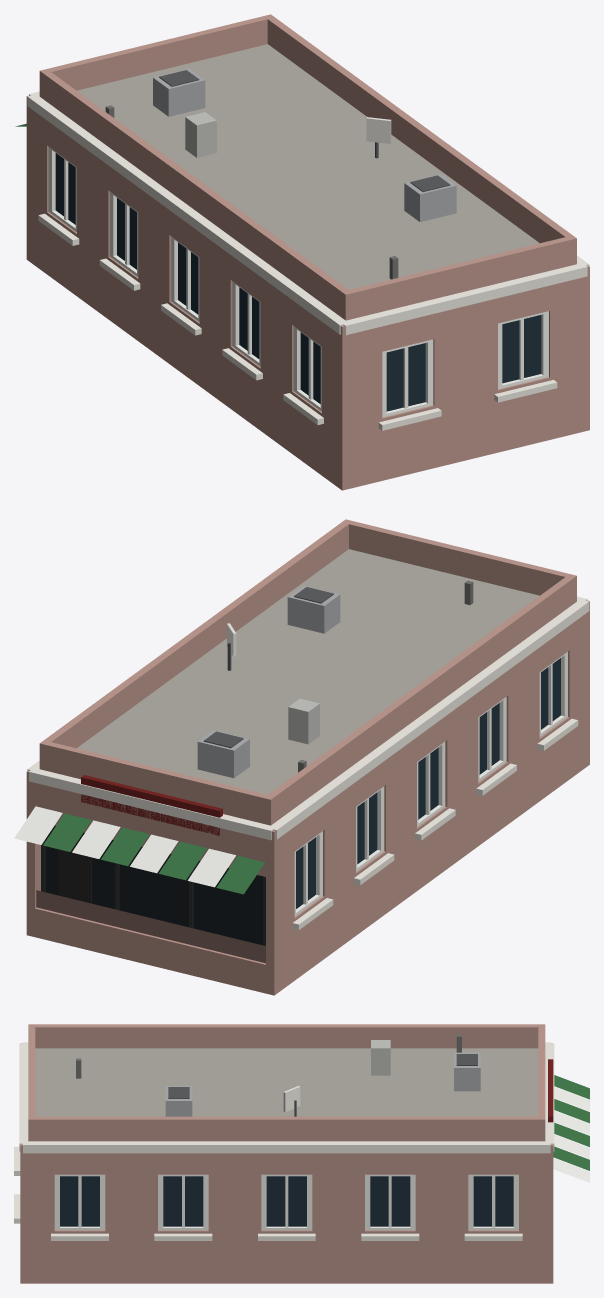
3 views of the same model, one above another, from view 1: azimuth 30°, elevation 25°; view 2: azimuth 150°, elevation 25°; view 3: azimuth 270°, elevation 25° (orthographic). The views are drawn at different scales.
Visible parts, largest first — view 1: b6778_opaque, b6778_glass; view 2: b6778_opaque, b6778_glass; view 3: b6778_opaque, b6778_glass.
Part boxes in pixels (x1=…): b6778_opaque: x1=15, y1=14, x2=589, y2=490; b6778_glass: x1=55, y1=153, x2=541, y2=411; b6778_opaque: x1=14, y1=519, x2=589, y2=995; b6778_glass: x1=45, y1=658, x2=560, y2=945; b6778_opaque: x1=14, y1=1024, x2=589, y2=1283; b6778_glass: x1=60, y1=1176, x2=513, y2=1226.
Bounding box in the file's own units: 2849 × 2150 × 6460.
